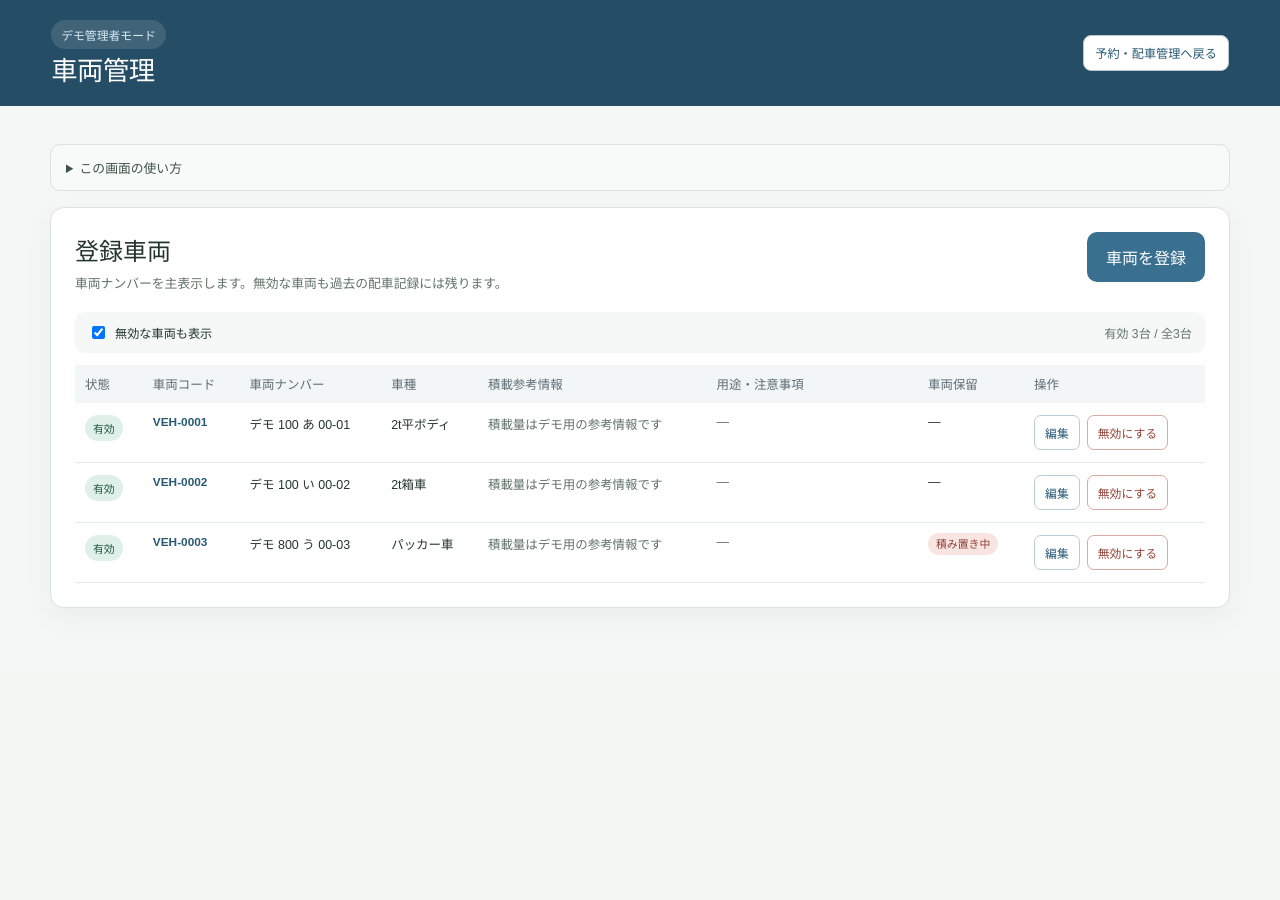
Scenario: 車両管理画面 › 車両ナンバーを使って登録・編集できる
Expected: the heading "登録車両" is shown, top-left (75, 238), bottom-right (171, 265)
Expected: the text "VEH-0001" is shown, top-left (153, 415), bottom-right (207, 429)
Click the button "車両を登録" at (1146, 257), box top-left (1087, 232), bottom-right (1205, 282)
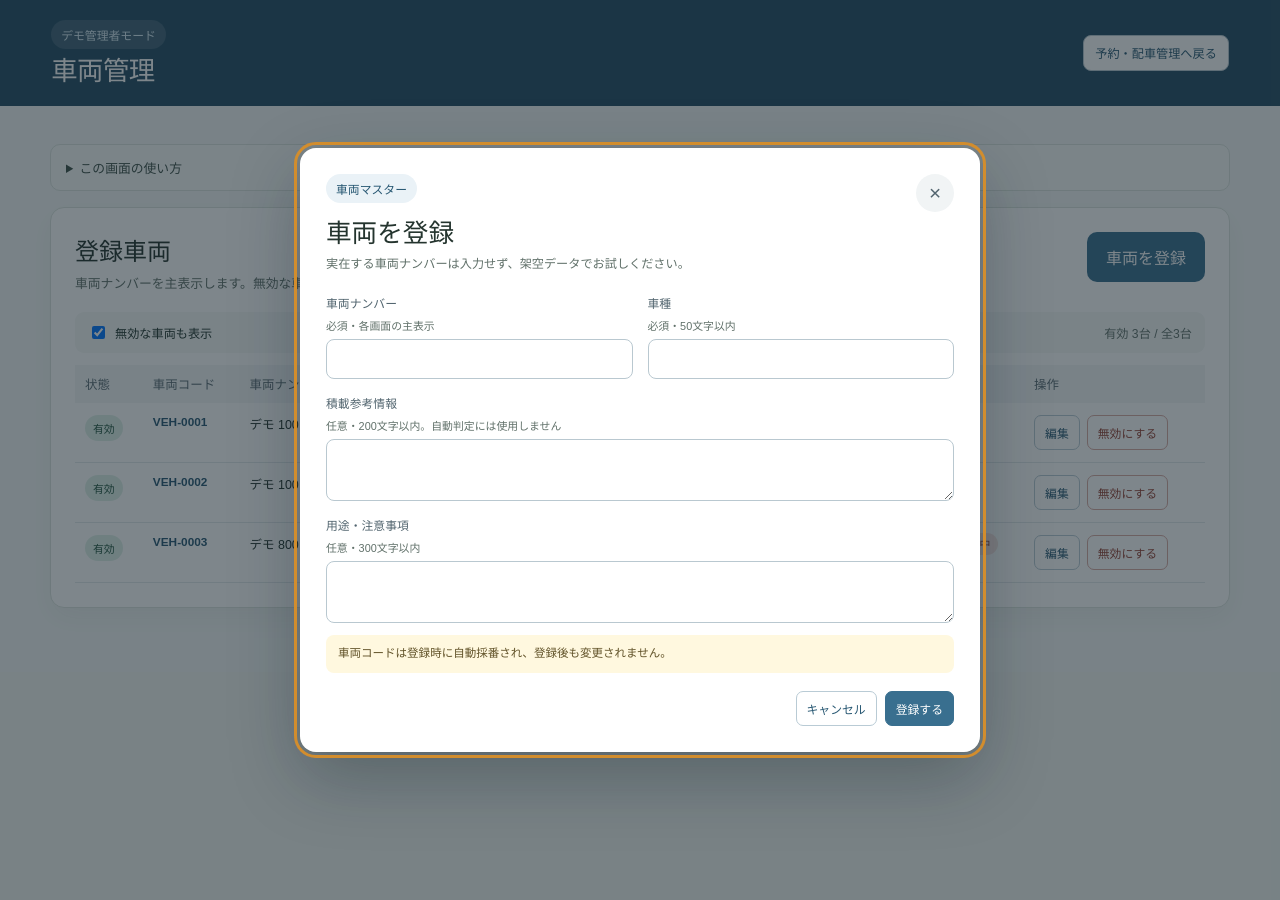
Type "デモ 500 え 00-04" into the field labelled "車両ナンバー" at (479, 359), box top-left (326, 339), bottom-right (632, 379)
Type "4t箱車" into the field labelled "車種" at (801, 359), box top-left (648, 339), bottom-right (954, 379)
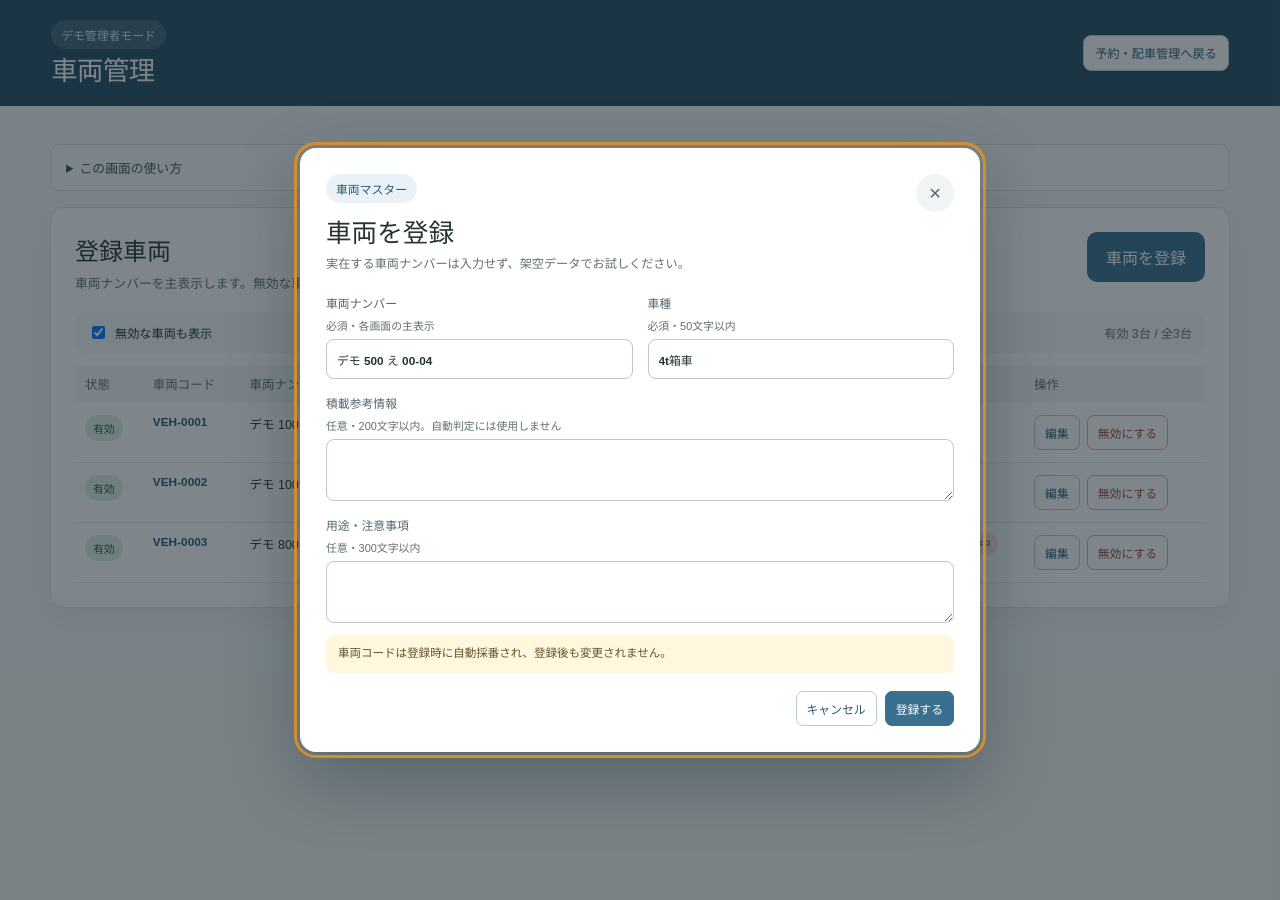
Click the button "登録する" at (919, 708), box top-left (885, 691), bottom-right (954, 726)
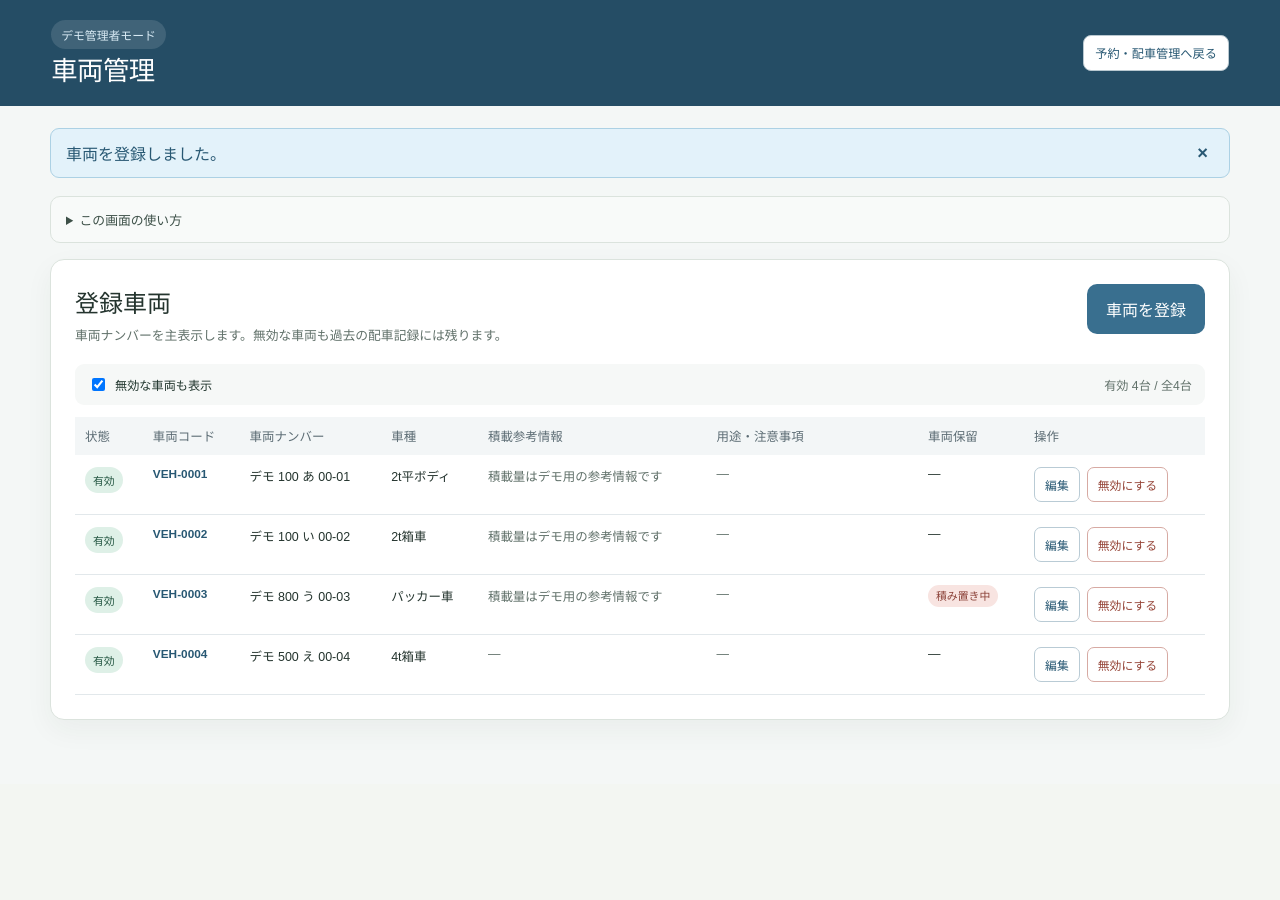
Result: the text "車両を登録しました。" is shown at top-left (66, 146), bottom-right (226, 163)
Result: the text "VEH-0004" is shown at top-left (153, 647), bottom-right (207, 661)
Click the button "編集" in the row of "VEH-0004" at (1057, 665), box top-left (1034, 647), bottom-right (1080, 682)
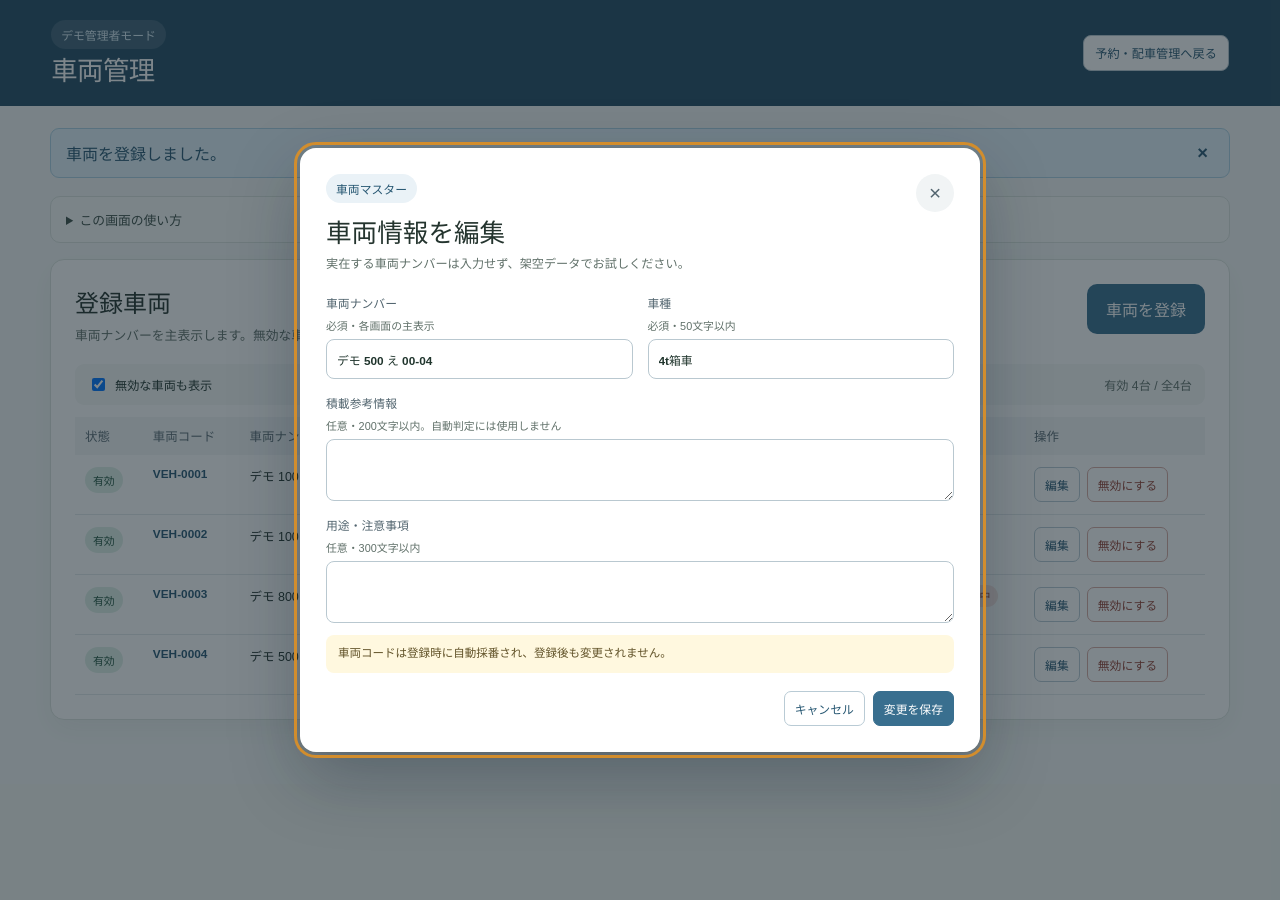
Type "架空の注意事項" into the text box labelled "用途・注意事項" at (640, 592), box top-left (326, 561), bottom-right (954, 623)
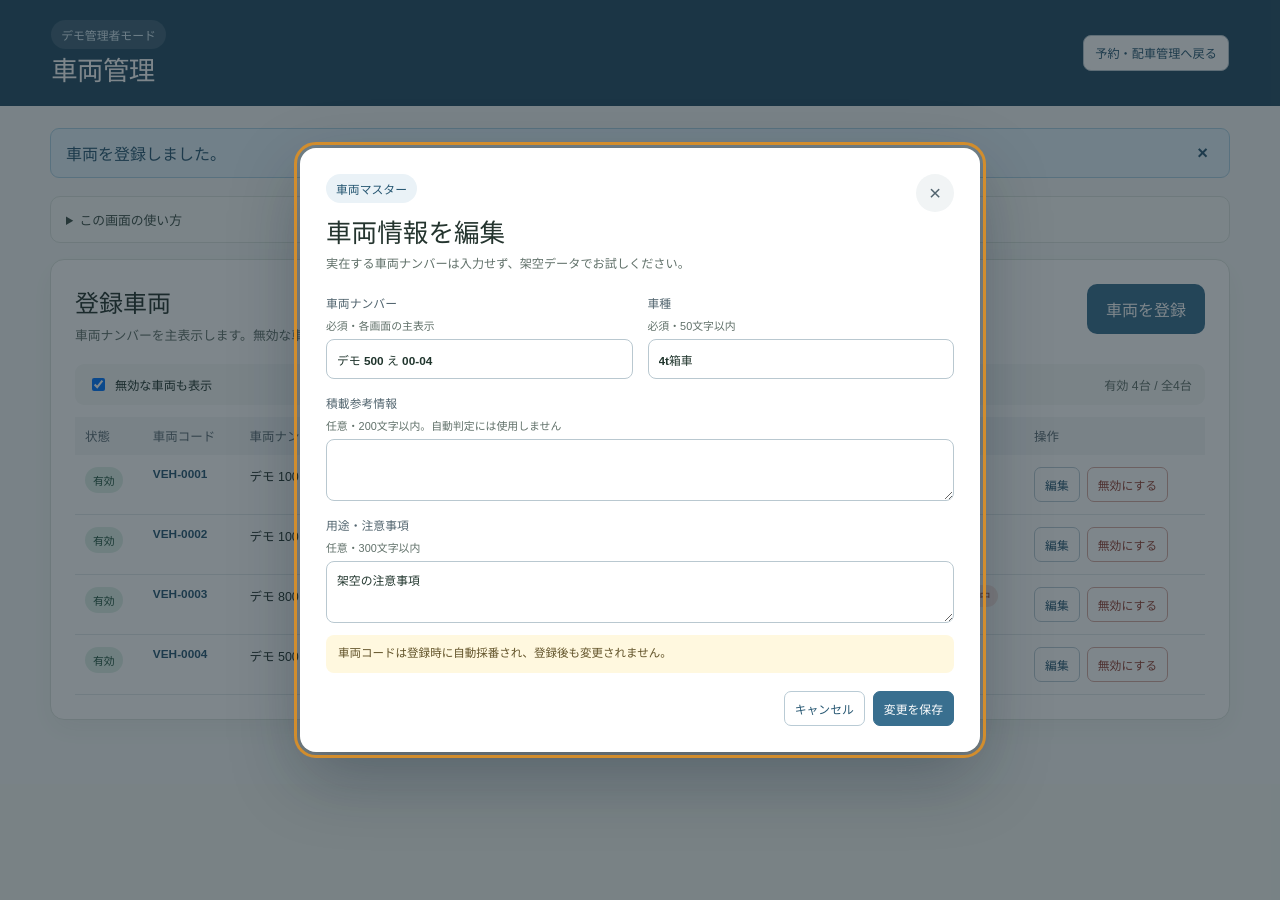
Click the button "変更を保存" at (913, 708), box top-left (873, 691), bottom-right (954, 726)
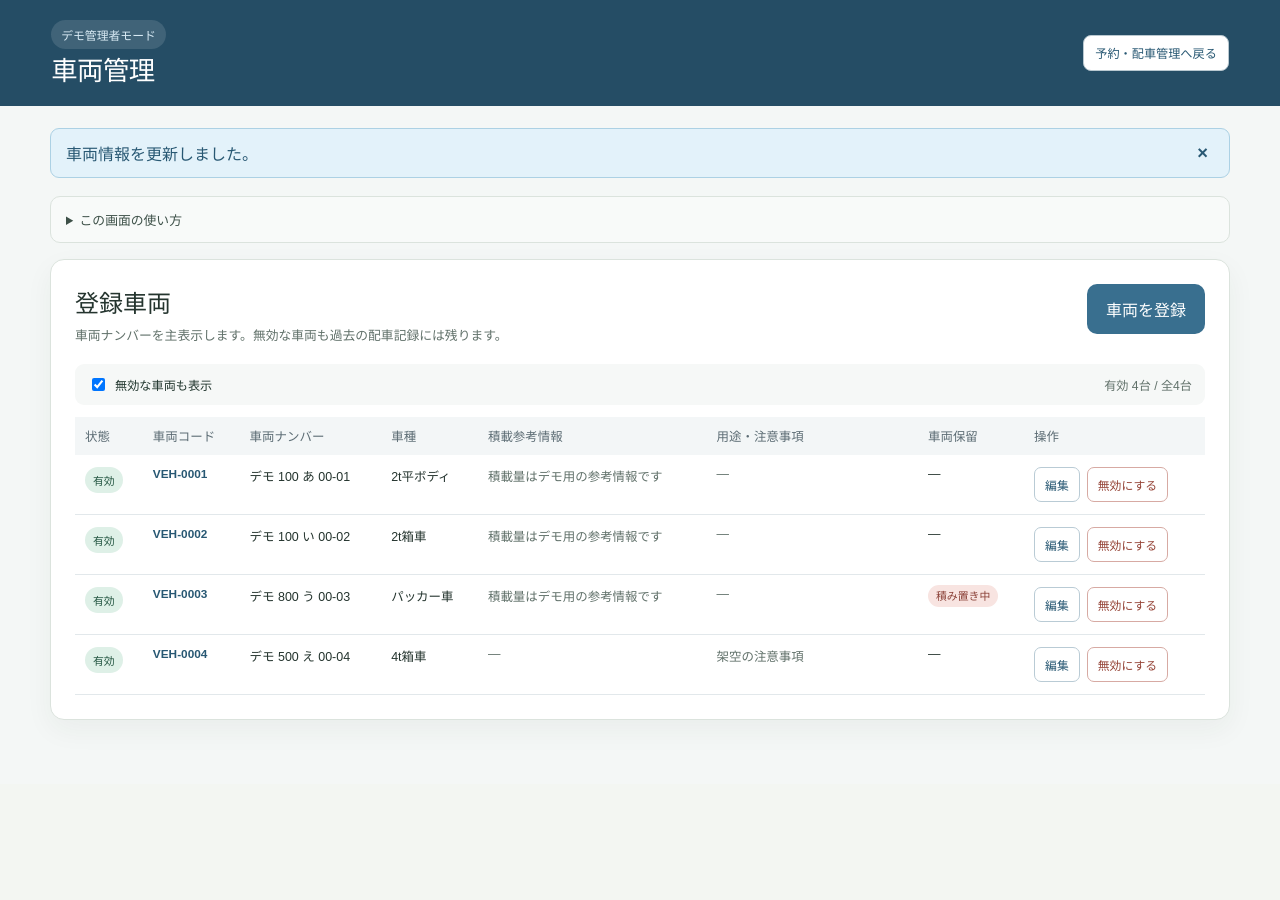
Result: the text "車両情報を更新しました。" is shown at top-left (66, 146), bottom-right (258, 163)
Result: the text "架空の注意事項" is shown at top-left (706, 635), bottom-right (918, 695)
